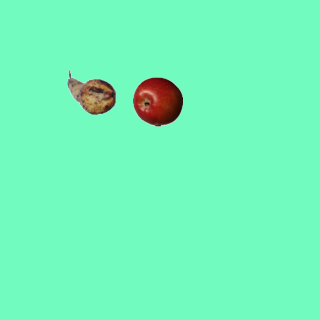Apple Braeburn: (132, 76, 182, 126)
Pear Abate: (66, 67, 116, 117)
